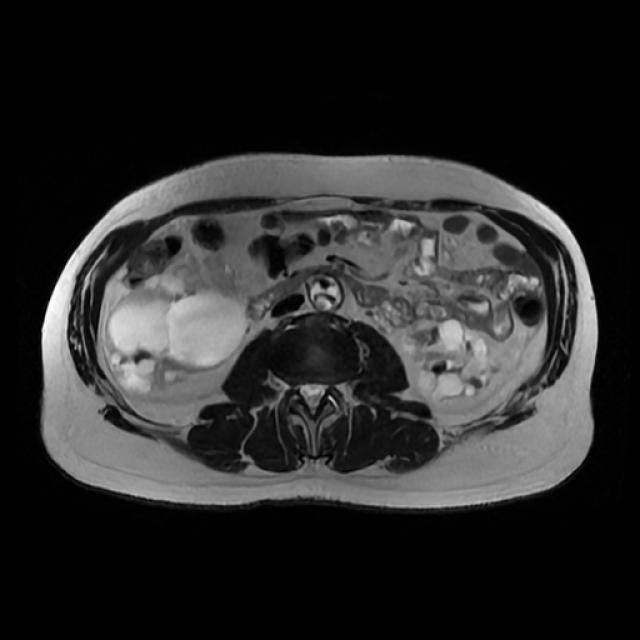sag: (106, 251, 246, 387)
sol: (404, 317, 498, 400)
